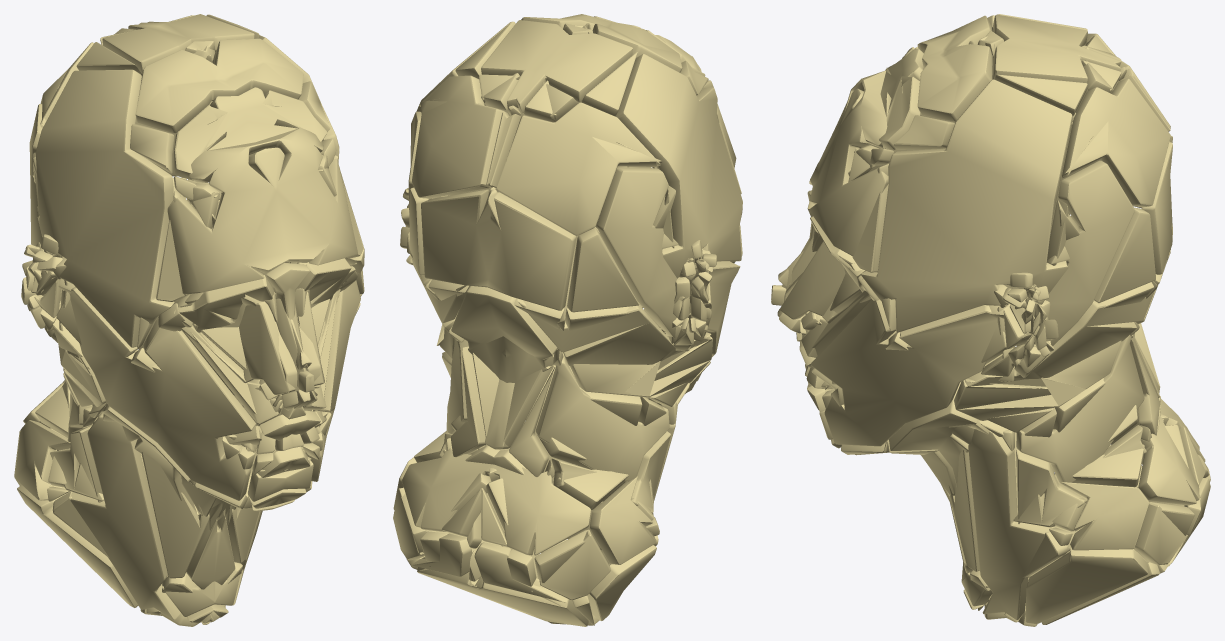
File: hed.glb
3 renders of one model, left to right at view 1: azimuth 30°, elevation 25°; view 2: azimuth 150°, elevation 25°; view 3: azimuth 270°, elevation 25°, orthographic.
Visible parts, largest first — view 1: HEAD; view 2: HEAD; view 3: HEAD.
Part boxes in pixels (left/top/right/bottom): HEAD: left=14, top=14, right=364, bottom=626; HEAD: left=393, top=14, right=742, bottom=626; HEAD: left=771, top=14, right=1210, bottom=626.
Size of the model in its own units: 3.7 by 6.72 by 4.64.
